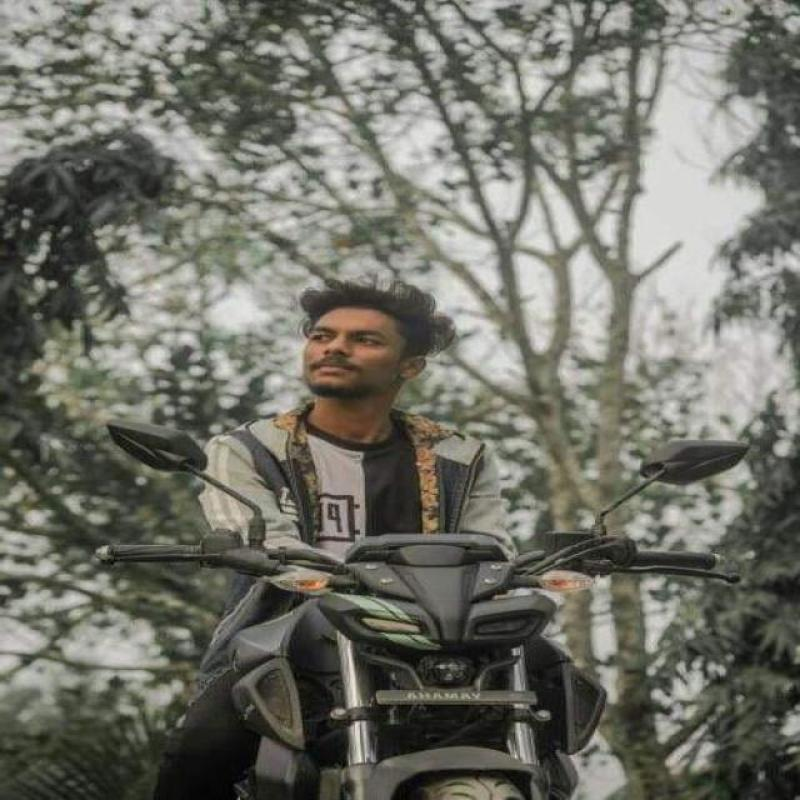nohelmet: (276, 272, 474, 408)
